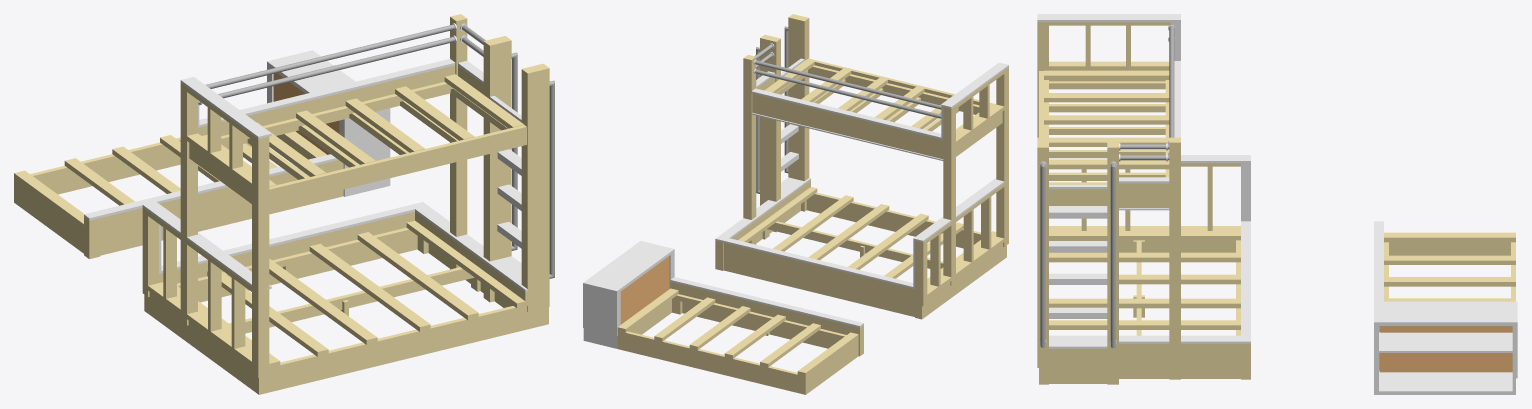
File: guts.glb
The picture shows the model from 3 angles, left to right: view 1: azimuth 30°, elevation 25°; view 2: azimuth 150°, elevation 25°; view 3: azimuth 270°, elevation 25°; orthographic projection. The views are drawn at different scales.
Parts seen in each view (by area): view 1: queen-rail-side.008, twin-rail-side.008, bed-rail-side.009, leg.026, leg.024, queen-rail-side.009, leg.027, twin-rail-side.009, leg.028, ladder-leg.006, bed-rail-side.008, leg.025 (+50 smaller); view 2: queen-rail-side.009, bed-rail-side.008, twin-rail-side.009, bed-rail-side.009, leg.027, leg.025, cabinet-top.004, cabinet-side.012, leg.026, queen-rail-side.008, cabinet-back.006, leg.024 (+43 smaller); view 3: cabinet-back.006, cabinet-top.004, cabinet-bottom.004, leg.025, cabinet-shelf.004, ladder-leg.007, ladder-leg.006, queen-rail-foot.012, ladder-rail.004, slot.072, slot.076, queen-rail-foot.010 (+42 smaller).
Boxes of the visible parts, box(x1,y1,x2,y2) form: queen-rail-side.008: box(268, 306, 526, 392); twin-rail-side.008: box(269, 125, 526, 207); bed-rail-side.009: box(84, 160, 343, 255); leg.026: box(252, 135, 269, 394); leg.024: box(521, 66, 538, 329); queen-rail-side.009: box(159, 211, 417, 302); leg.027: box(180, 83, 197, 342); twin-rail-side.009: box(198, 65, 455, 147); leg.028: box(483, 38, 500, 302); ladder-leg.006: box(533, 63, 549, 326); bed-rail-side.008: box(14, 137, 251, 204); leg.025: box(450, 14, 467, 269); queen-rail-side.009: box(724, 242, 914, 316); bed-rail-side.008: box(617, 331, 807, 394); twin-rail-side.009: box(752, 93, 943, 158); bed-rail-side.009: box(670, 282, 863, 348); leg.027: box(943, 106, 955, 298); leg.025: box(743, 55, 756, 244); cabinet-top.004: box(583, 241, 674, 292); cabinet-side.012: box(583, 283, 618, 348); leg.026: box(996, 67, 1008, 259); queen-rail-side.008: box(806, 192, 980, 248); cabinet-back.006: box(620, 256, 670, 324); leg.024: box(796, 16, 809, 211); cabinet-back.006: box(1379, 326, 1512, 372); cabinet-top.004: box(1374, 301, 1517, 325); cabinet-bottom.004: box(1379, 370, 1514, 394); leg.025: box(1169, 137, 1180, 379); cabinet-shelf.004: box(1379, 332, 1512, 352); ladder-leg.007: box(1107, 142, 1118, 384); ladder-leg.006: box(1037, 142, 1048, 384); queen-rail-foot.012: box(1181, 344, 1240, 378); ladder-rail.004: box(1049, 349, 1107, 383); slot.072: box(1049, 252, 1240, 262); slot.076: box(1049, 298, 1240, 308); queen-rail-foot.010: box(1119, 344, 1169, 378).
Size of the model in its own units: 2.55 by 2.01 by 3.65.
